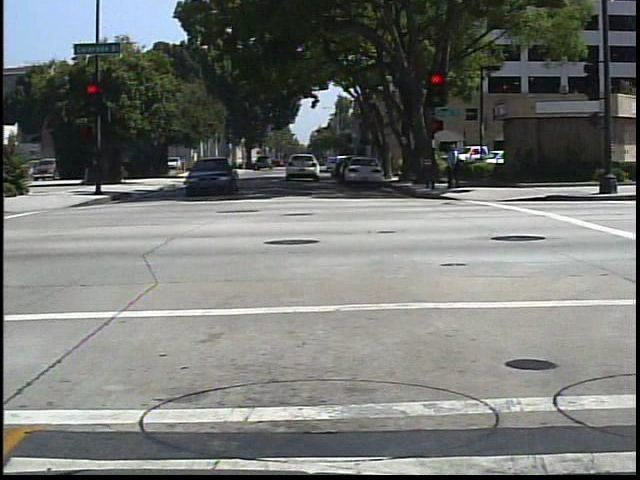person: (442, 139, 466, 191)
